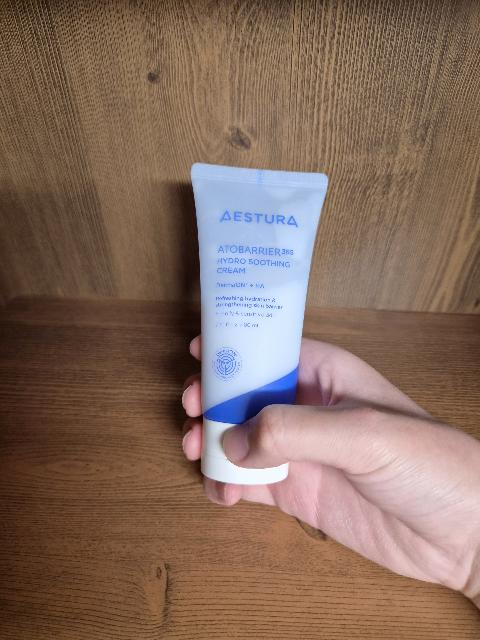handcream: (191, 163, 328, 485)
